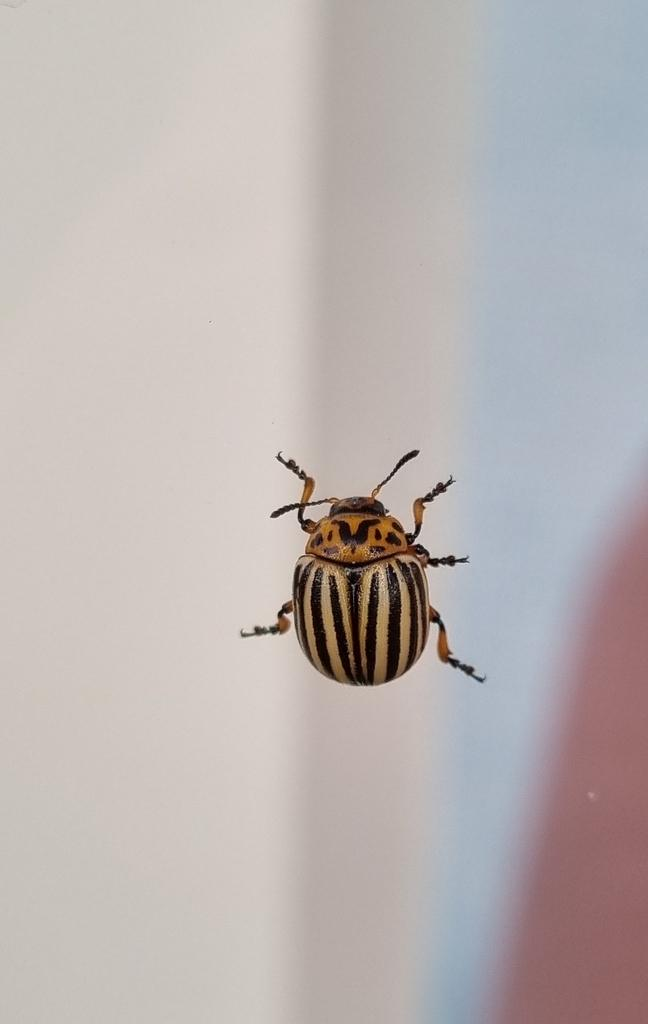potato_beetle: (207, 419, 544, 737)
